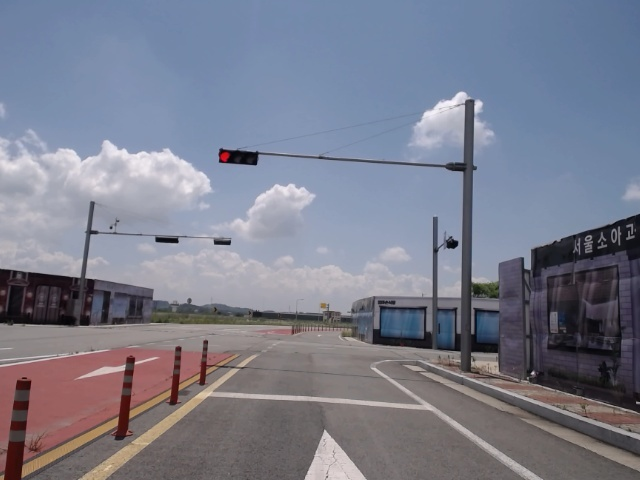red_3: (218, 148, 259, 166)
